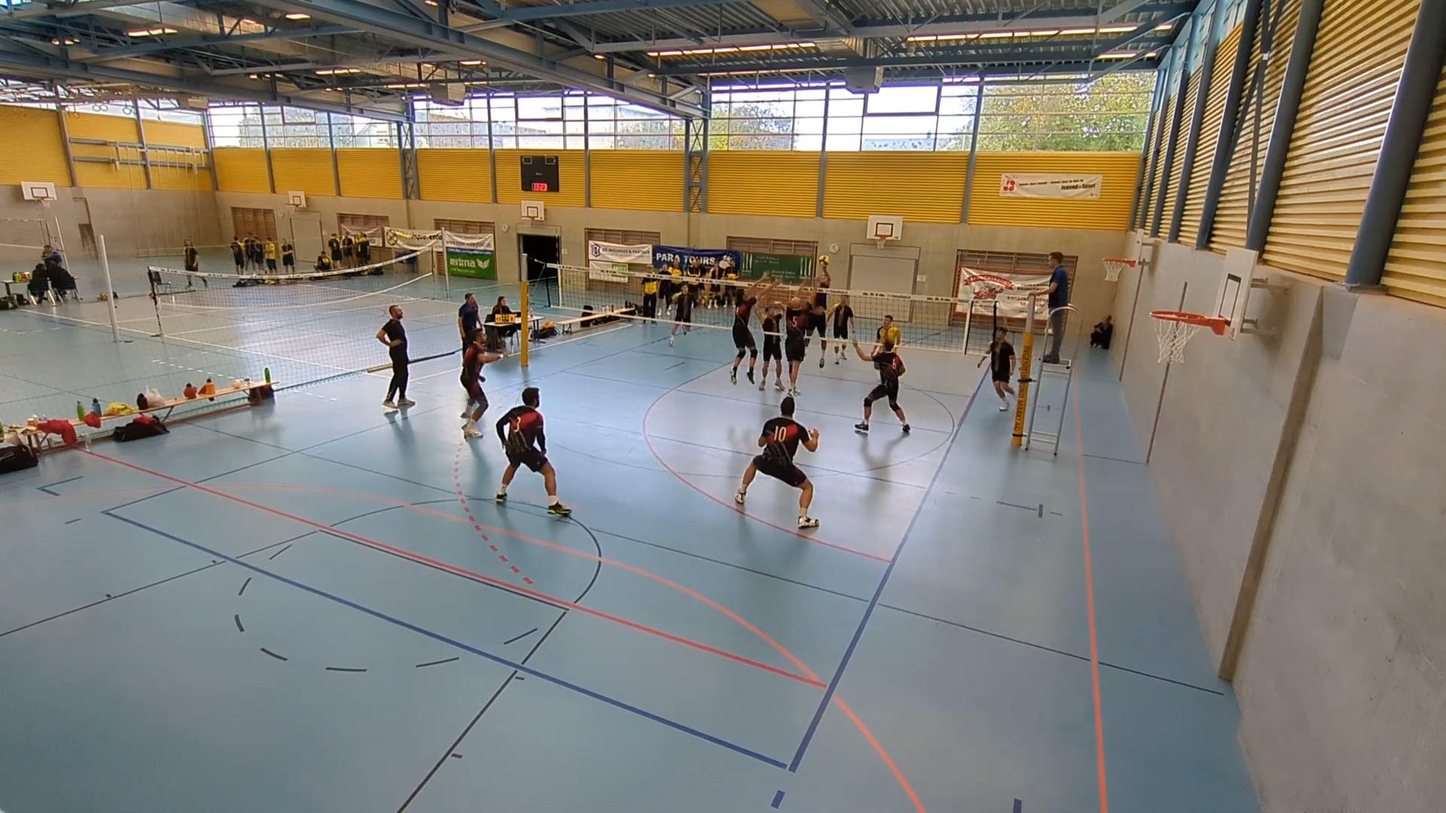attacco: (802, 248, 829, 372)
muro: (729, 267, 768, 385), (783, 275, 813, 395)
